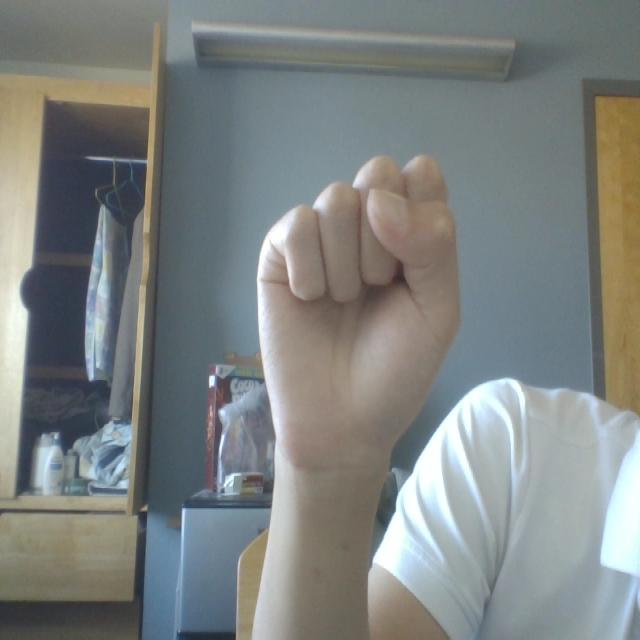S: (229, 122, 490, 529)
